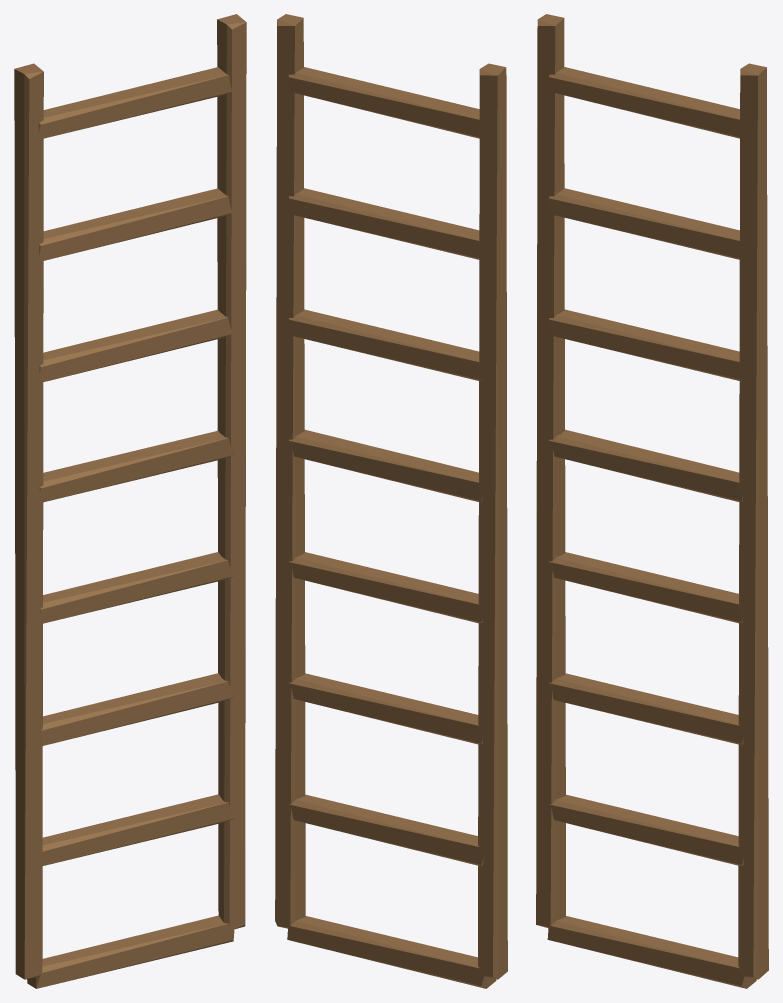
The model's file is harbor-dock-ladder.lod1.glb.
3 views of the same model, side by side, from view 1: azimuth 30°, elevation 25°; view 2: azimuth 150°, elevation 25°; view 3: azimuth 330°, elevation 25° (orthographic).
Visible parts, largest first — view 1: harbor-dock-ladder__body; view 2: harbor-dock-ladder__body; view 3: harbor-dock-ladder__body.
Part boxes in pixels (bbox=[...]): harbor-dock-ladder__body: bbox=[14, 14, 246, 988]; harbor-dock-ladder__body: bbox=[275, 14, 507, 988]; harbor-dock-ladder__body: bbox=[536, 14, 768, 988].
Size of the model in its own units: 0.7732 by 3.03 by 0.08.
